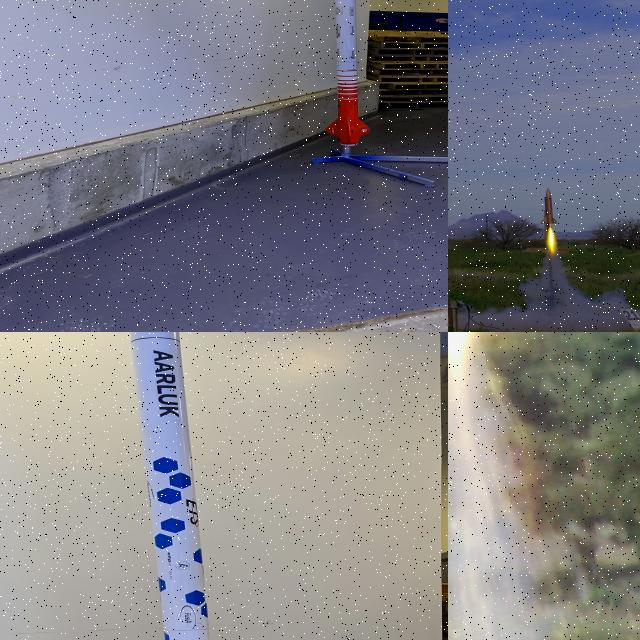Rocket: (130, 332, 211, 640), (326, 0, 370, 146), (540, 187, 558, 225)
